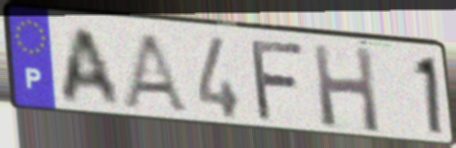1: (410, 53, 445, 137)
4: (195, 33, 244, 122)
A: (119, 31, 194, 116), (58, 25, 124, 108)
F: (249, 38, 310, 124)
H: (309, 41, 384, 137)
